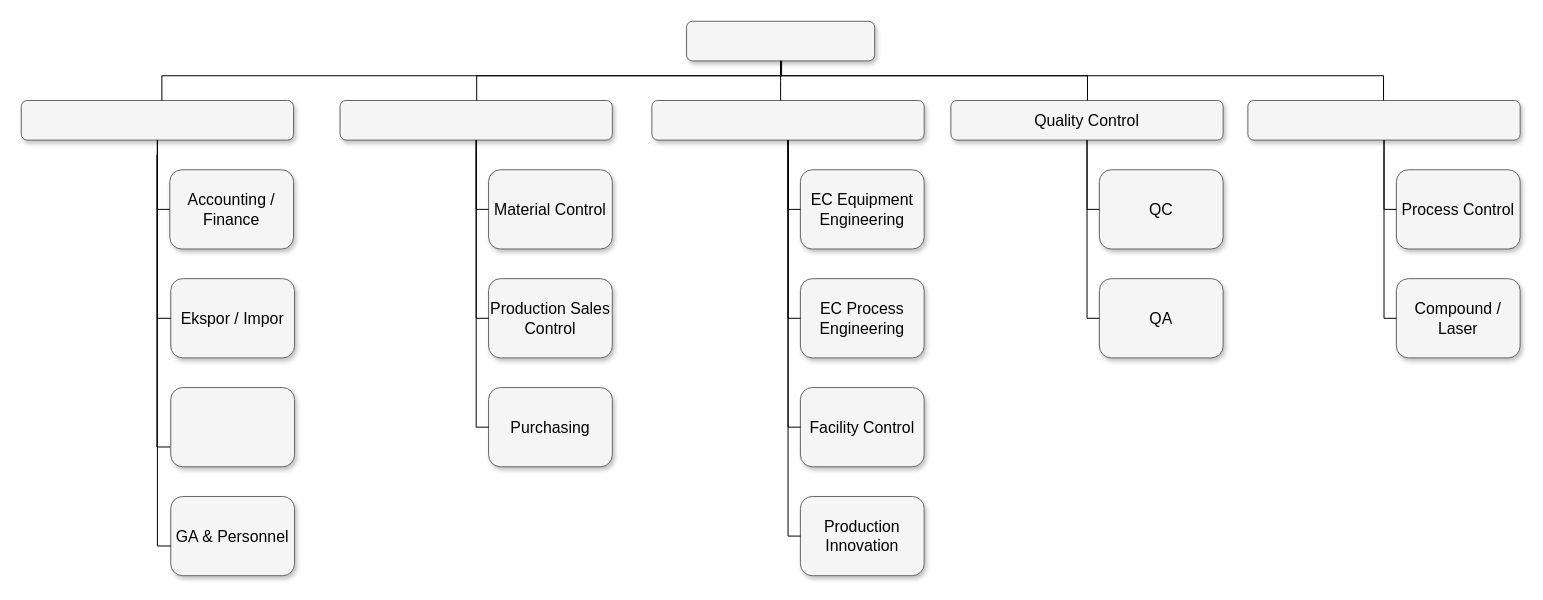
Some shapes in this 1543 by 600 pixel diagram are drawn without their labels. Here are the shapes that lost their labels. From the top down, the centre of each, then its label:
[781,42]: BOD
[157,121]: Administrations
[476,121]: Productions Control
[788,121]: Engineering
[1384,121]: Productions
[233,428]: MIS
